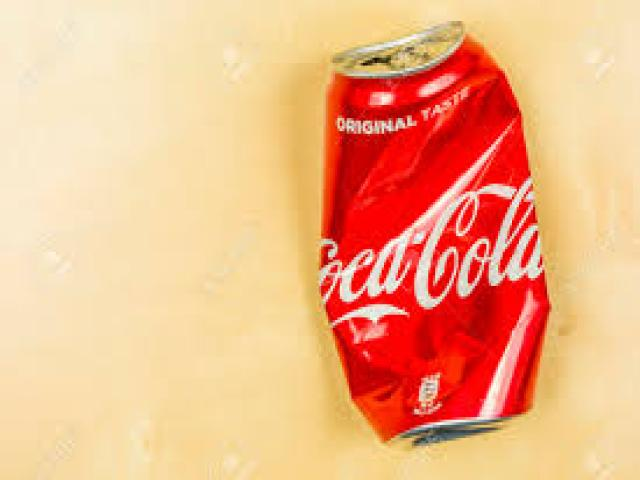Canned_drinks: (317, 18, 549, 448)
